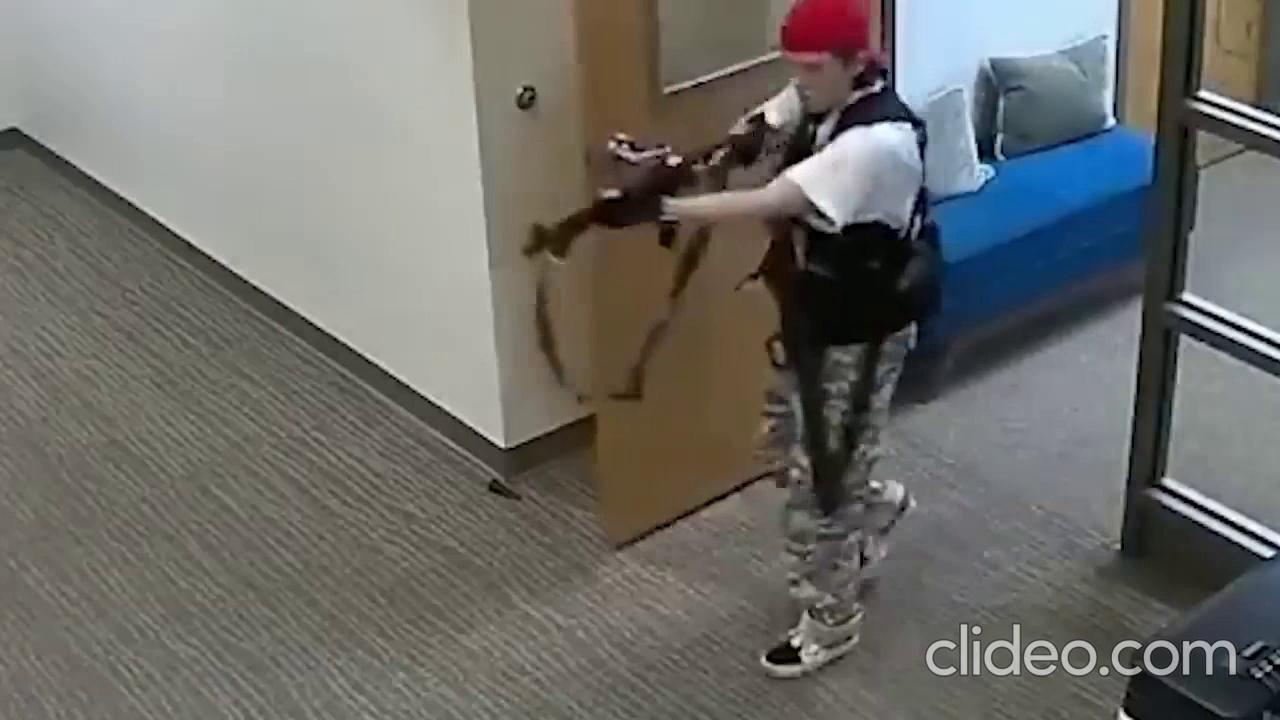person: (598, 0, 945, 680)
rifle: (762, 210, 854, 520)
